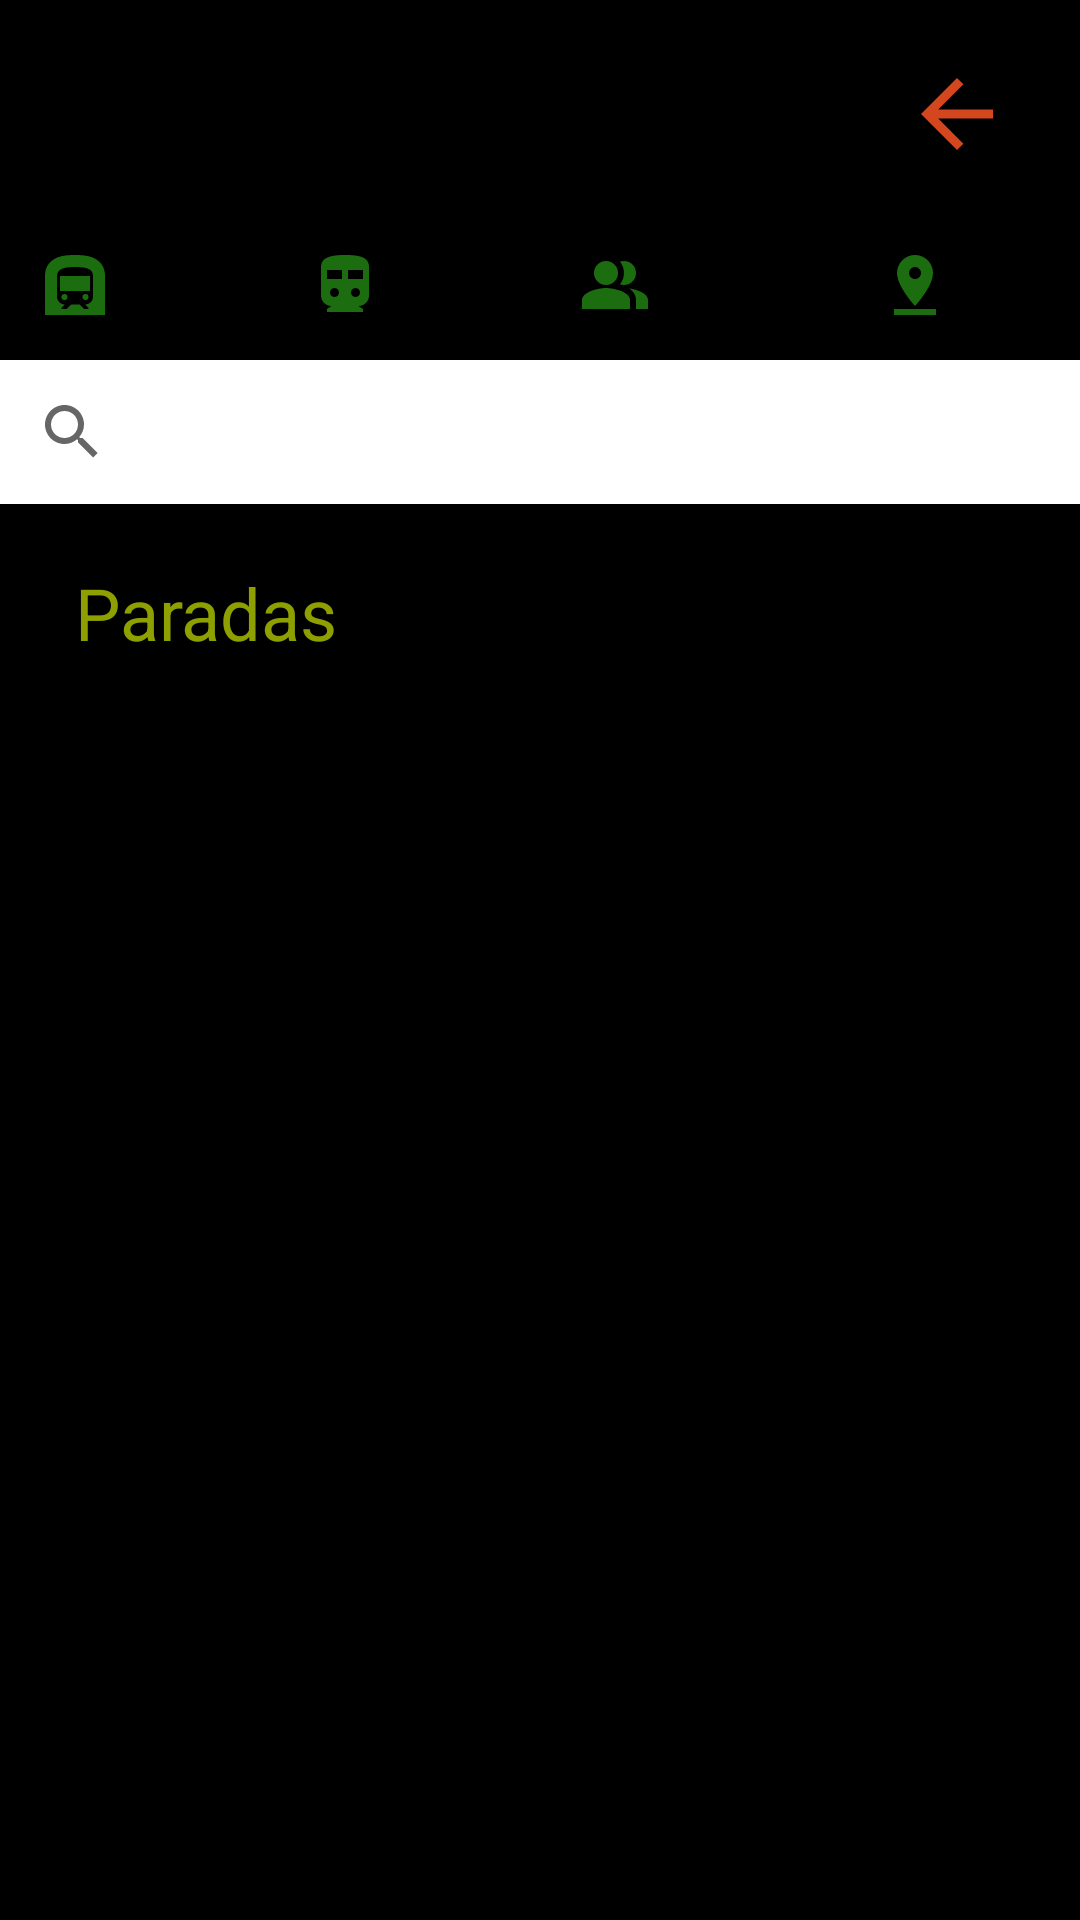

Icons on this 1080px×1920px Android screen, each with the point to tap as (x,y):
back flecha: (957,114)
paradaicono: (75,285)
puntoicono: (915,285)
rutaicono: (345,283)
usericono: (615,285)
